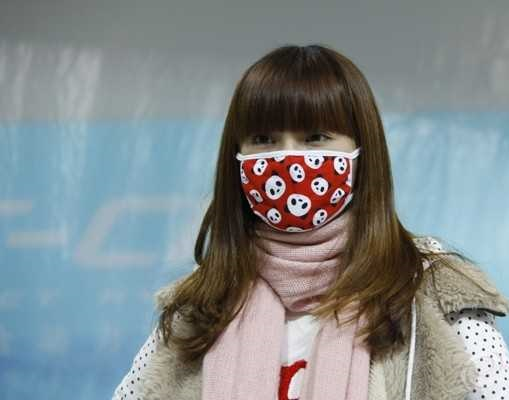face_mask: (237, 130, 354, 232)
